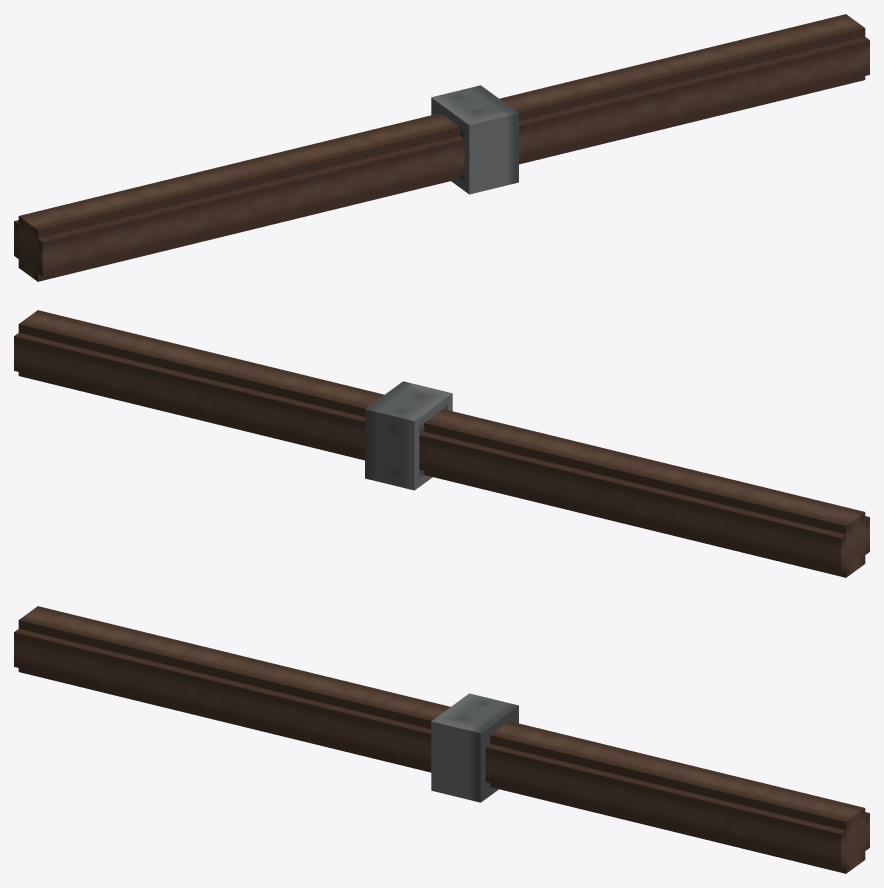
Rendered from Support_BeamA_00.fbx.
3 views of the same model, one above another, from view 1: azimuth 30°, elevation 25°; view 2: azimuth 150°, elevation 25°; view 3: azimuth 330°, elevation 25° (orthographic).
Parts seen in each view (by area): view 1: Support_BeamA_00; view 2: Support_BeamA_00; view 3: Support_BeamA_00.
Part boxes in pixels (box(x1,y1,x2,y2)): Support_BeamA_00: box(14, 14, 869, 281); Support_BeamA_00: box(14, 310, 869, 577); Support_BeamA_00: box(14, 606, 869, 873).
Bounding box in the file's own units: 500 × 40 × 40.
